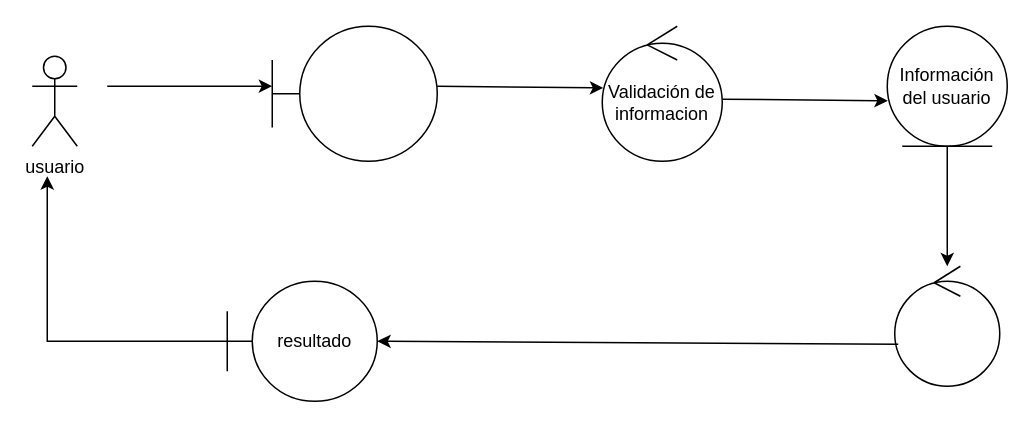
The diagram is 1034 pixels wide and 428 high, and some of its shapes have lost their labels. Here are the shapes that lost their labels. From the top down, the centre of each, then its label:
At point 354,93: "Consulta datos del usuario".
At point 946,325: "Enviar Información".
